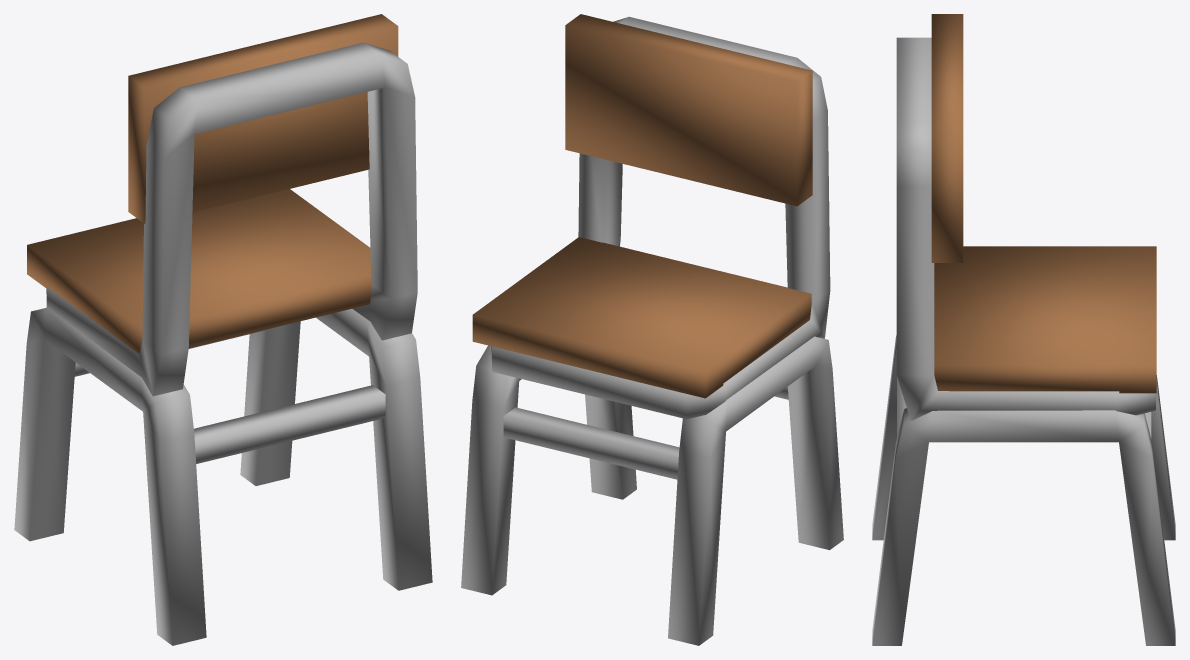
Rendered from SchoolChair.fbx.
3 renders of one model, left to right at view 1: azimuth 30°, elevation 25°; view 2: azimuth 150°, elevation 25°; view 3: azimuth 270°, elevation 25°, orthographic. The views are drawn at different scales.
Visible parts, largest first — view 1: 큐브.001; view 2: 큐브.001; view 3: 큐브.001.
Part boxes in pixels (box(x1,y1,x2,y2)): 큐브.001: box(14, 14, 432, 645); 큐브.001: box(461, 14, 843, 645); 큐브.001: box(872, 14, 1175, 645).
Bounding box in the file's own units: 73.97 × 145 × 78.02.
